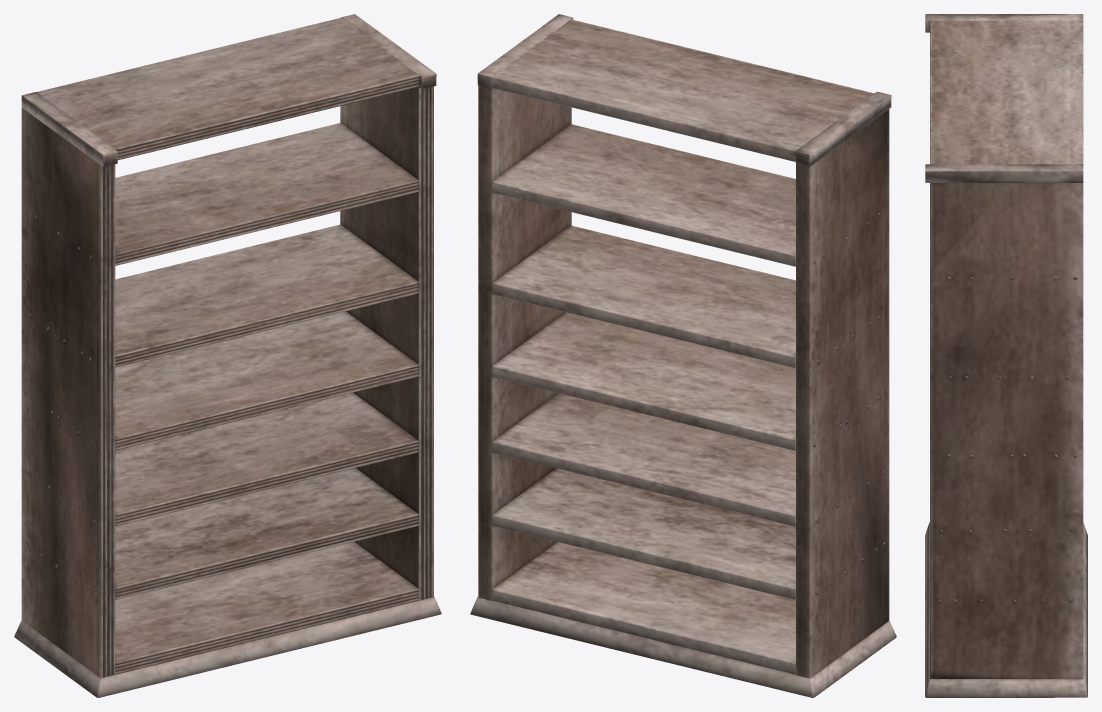
File: shelf.glb
The picture shows the model from 3 angles, left to right: view 1: azimuth 30°, elevation 25°; view 2: azimuth 150°, elevation 25°; view 3: azimuth 270°, elevation 25°; orthographic projection. The views are drawn at different scales.
Visible parts, largest first — view 1: wooden_bookshelf_worn; view 2: wooden_bookshelf_worn; view 3: wooden_bookshelf_worn.
Boxes of the visible parts, x1,y1,x2,y2 form: wooden_bookshelf_worn: (14,14,441,697); wooden_bookshelf_worn: (470,14,896,697); wooden_bookshelf_worn: (925,14,1087,697).
Size of the model in its own units: 1.37 by 2.06 by 0.5814.
Materials: 1 (1 with a texture image).
